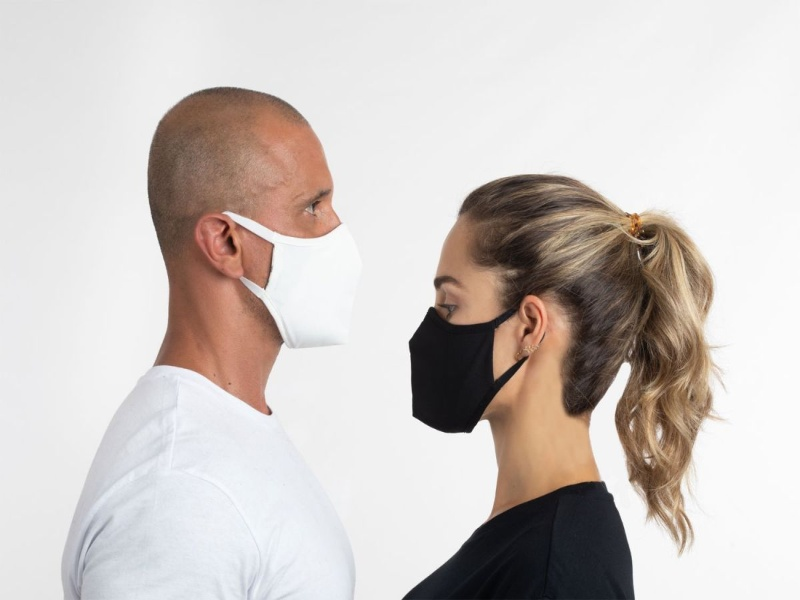mask: (261, 220, 367, 348), (408, 307, 495, 435)
